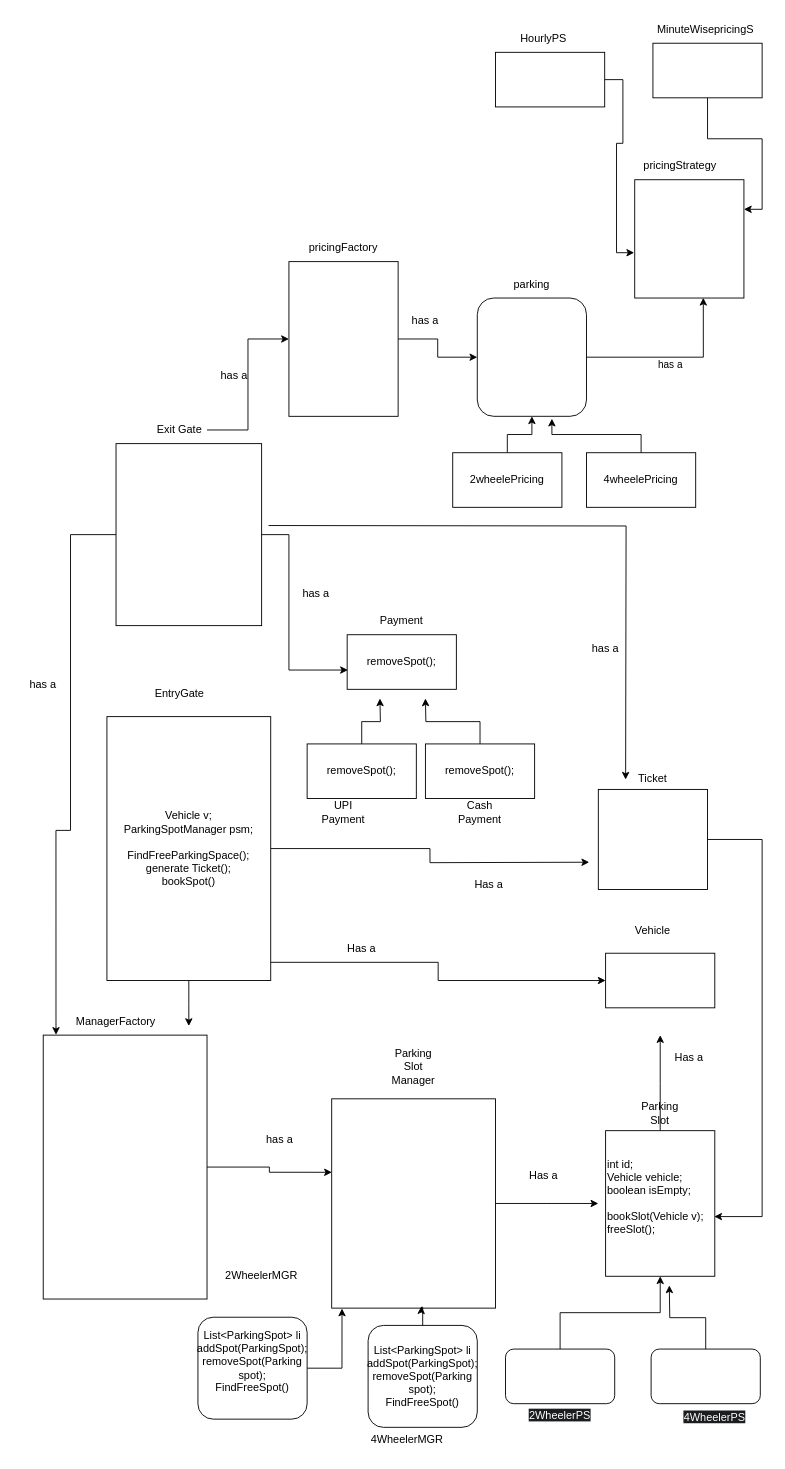
This 785x1469 diagram has some shape labels left out. The shapes that lost their labels are listed below. From the top down, each one's centre as x and y in pixels, then its label:
At point (188, 534): "Ticket tkt; Payment payment; ParkingSpotManager psm freeSpot()".
At point (652, 839): "int id; Entry time Vehicle vehicle;".
At point (660, 980): "int no VehicleType".
At point (124, 1166): "Parking Slot Manager getManager(VehicleType obj);".
